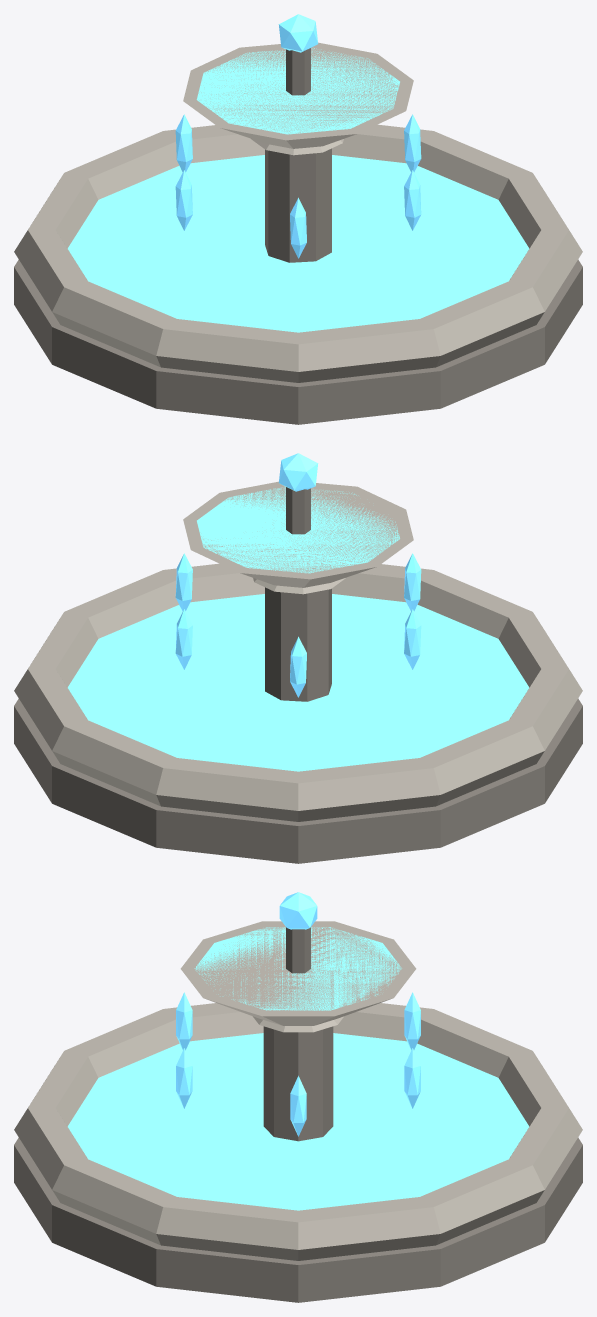
File: fountain.glb
3 views of the same model, one above another, from view 1: azimuth 30°, elevation 25°; view 2: azimuth 150°, elevation 25°; view 3: azimuth 270°, elevation 25° (orthographic).
Visible parts, largest first — view 1: fountain; view 2: fountain; view 3: fountain.
Part boxes in pixels (bbox=[...]): fountain: bbox=[14, 14, 582, 424]; fountain: bbox=[14, 453, 582, 863]; fountain: bbox=[14, 892, 582, 1302].
Size of the model in its own units: 4.1 by 2.31 by 4.1.
